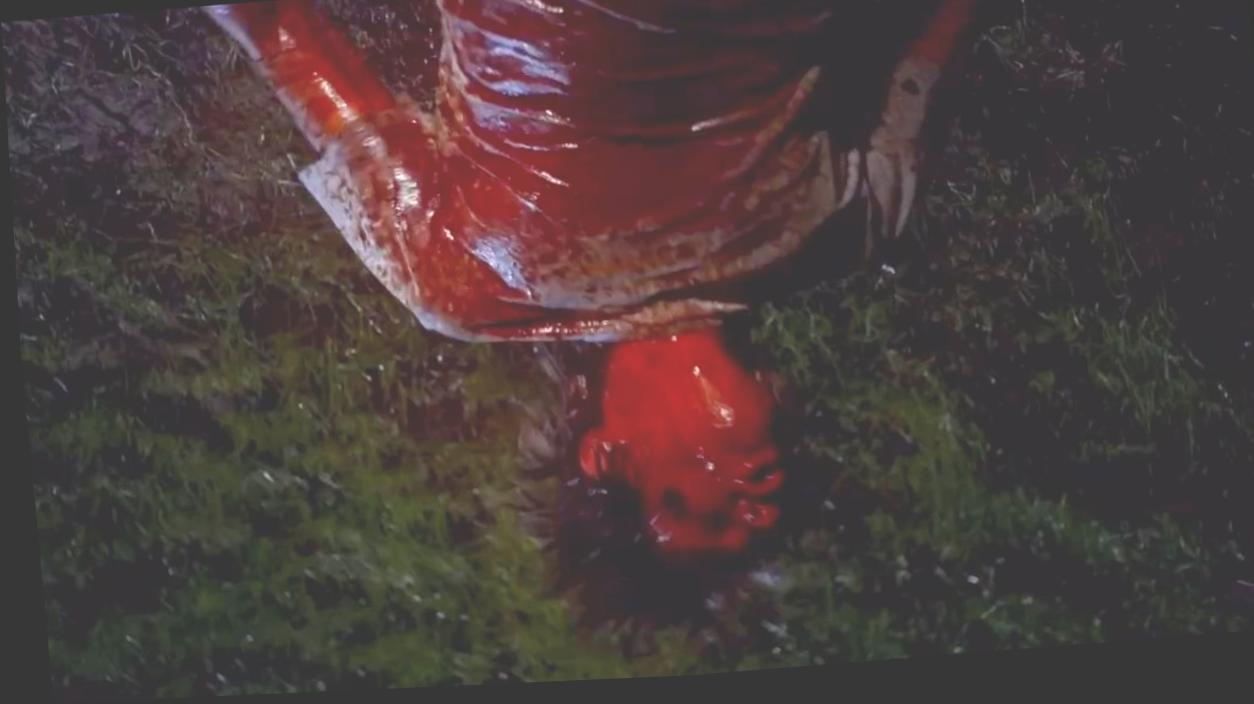Fire: (204, 0, 945, 580)
